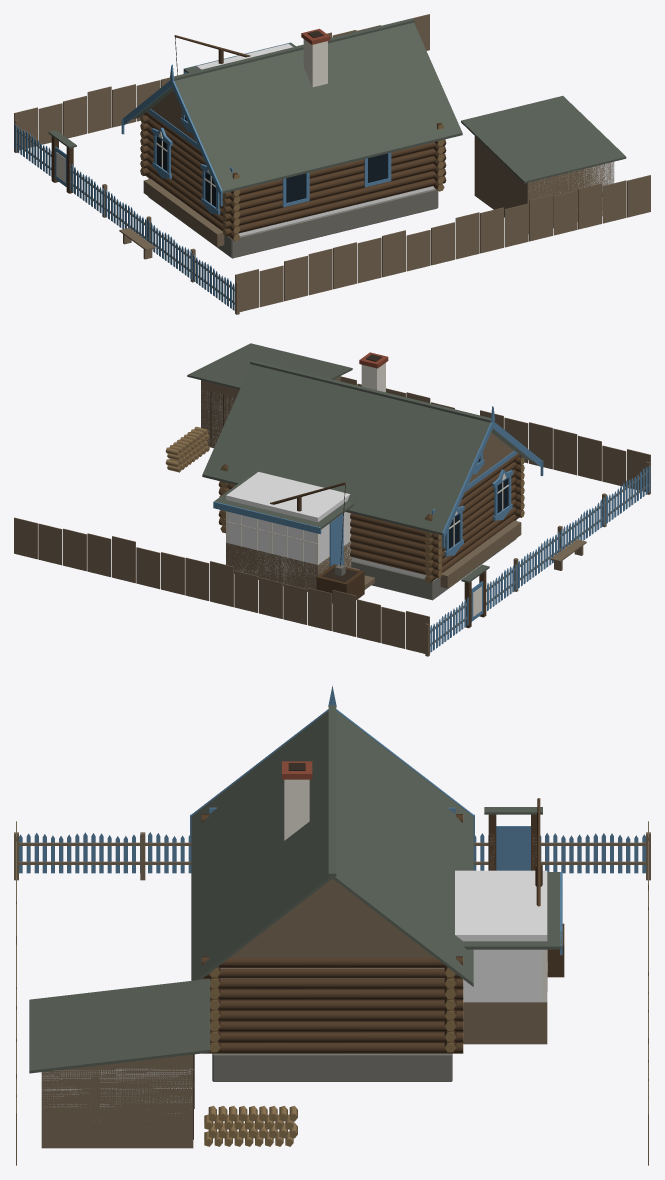
Rendered from izba-4.glb.
3 views of the same model, one above another, from view 1: azimuth 30°, elevation 25°; view 2: azimuth 150°, elevation 25°; view 3: azimuth 270°, elevation 25° (orthographic). The views are drawn at different scales.
Parts seen in each view (by area): view 1: 05_#5a6258, 04_#7a6a56, 02_#54402e, 06_paint0, 00_#77756e, 07_#1c2630, 08_#e6e2d6, 03_#8a7250, solid.002, solid.001, solid; view 2: 05_#5a6258, 04_#7a6a56, 06_paint0, 02_#54402e, solid, 03_#8a7250, 08_#e6e2d6, 00_#77756e, 07_#1c2630, 01_#3a3028; view 3: 05_#5a6258, 04_#7a6a56, 02_#54402e, solid, 06_paint0, 00_#77756e, 03_#8a7250, 08_#e6e2d6, solid.001.
Boxes of the visible parts, x1,y1,x2,y2 form: 05_#5a6258: (48,18,626,193); 04_#7a6a56: (14,14,650,314); 02_#54402e: (51,35,446,240); 06_paint0: (14,42,391,310); 00_#77756e: (148,178,438,258); 07_#1c2630: (156,117,387,206); 08_#e6e2d6: (56,39,327,204); 03_#8a7250: (140,116,444,241); solid.002: (238,186,434,236); solid.001: (534,161,614,215); solid: (196,43,292,70); 05_#5a6258: (187,343,532,582); 04_#7a6a56: (14,376,650,656); 06_paint0: (213,406,650,652); 02_#54402e: (218,453,523,628); solid: (226,472,351,587); 03_#8a7250: (165,426,524,582); 08_#e6e2d6: (226,363,508,616); 00_#77756e: (335,520,516,600); 07_#1c2630: (445,458,508,548); 01_#3a3028: (210,354,381,581); 05_#5a6258: (29,705,561,1073); 04_#7a6a56: (14,821,650,1165); 02_#54402e: (202,798,564,1053); solid: (455,870,547,1002); 06_paint0: (19,685,645,955); 00_#77756e: (212,1053,452,1081); 03_#8a7250: (201,814,463,1146); 08_#e6e2d6: (284,779,547,1002); solid.001: (41,1068,193,1113).
Size of the model in its own units: 16.78 by 6.58 by 15.12.
